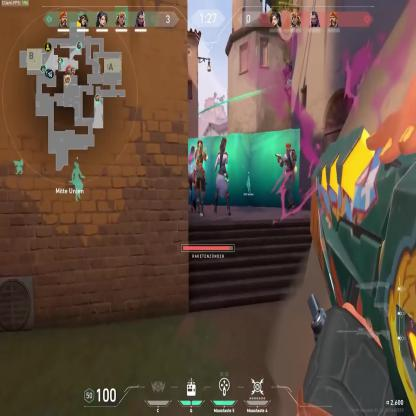enemy: (212, 136, 232, 216), (277, 142, 297, 210), (194, 138, 206, 218), (186, 142, 197, 214)
enemy_head: (219, 141, 225, 153), (197, 139, 203, 150), (285, 143, 291, 153), (191, 145, 196, 154)
